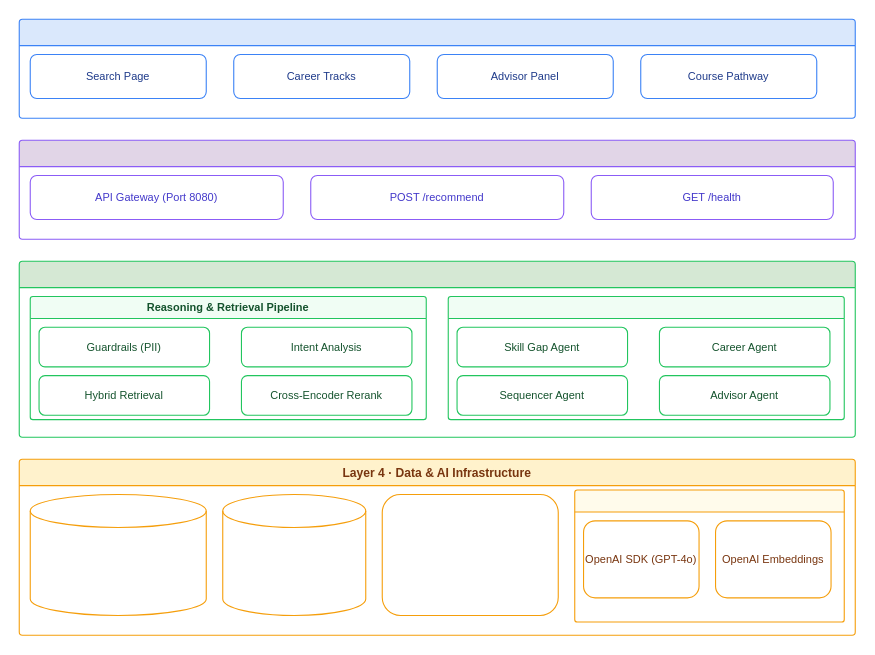
Image size: 875x655. Some labels were removed from this diagram. Here are the shapes that lost their labels. From the top down, the box of each, then its label:
(18, 18, 855, 118): Layer 1 · Frontend (React 19)
(18, 139, 855, 239): Layer 2 · API Gateway & Routing
(18, 260, 855, 437): Layer 3 · Agentic Orchestration & Services
(447, 295, 844, 420): Specialist Agents
(29, 493, 206, 615): Vector DB (Qdrant)
(222, 493, 366, 615): BM25 Index
(381, 493, 558, 615): Cross-Encoder Model (ms-marco)
(574, 489, 844, 622): LLM Layer
